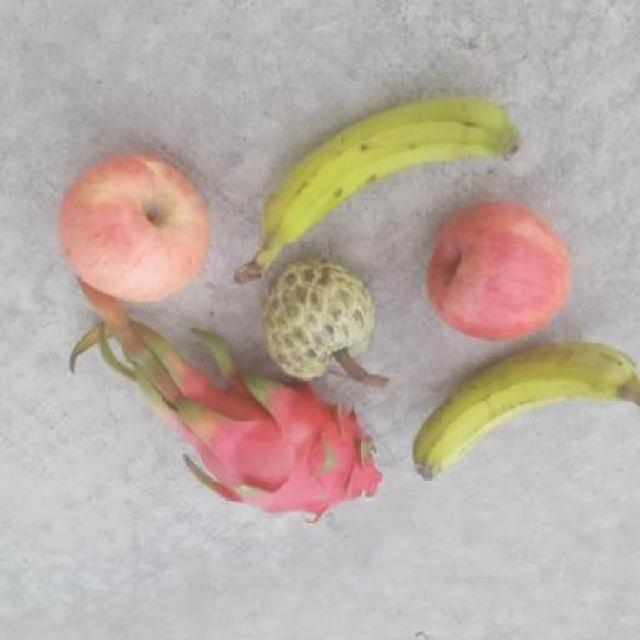apple: (424, 198, 578, 340)
banana: (239, 90, 533, 268), (412, 341, 639, 481), (55, 148, 223, 304)
dragon fruit: (179, 362, 403, 526)
sugar apple: (259, 251, 386, 384)
